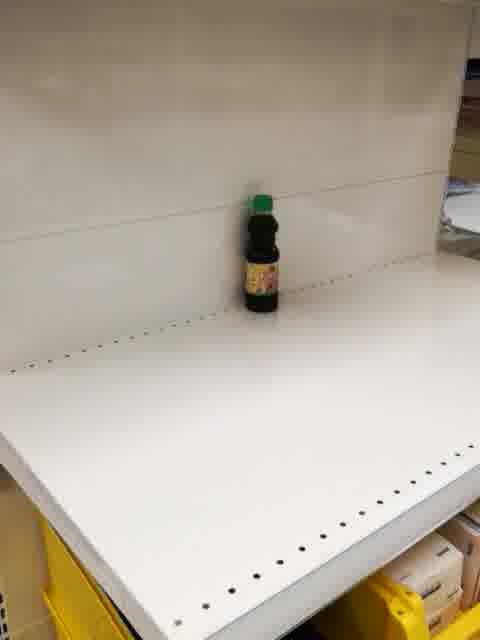cookingoil: (243, 194, 281, 313)
